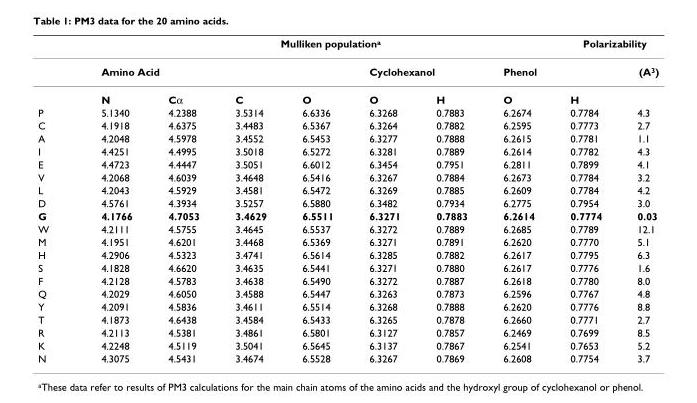table: (37, 36, 658, 363)
table column: (74, 36, 149, 363), (149, 36, 216, 363), (216, 36, 283, 363), (283, 36, 350, 363), (350, 36, 417, 363), (417, 36, 484, 363), (484, 36, 551, 363), (551, 36, 618, 363), (618, 36, 658, 363), (37, 36, 74, 363)
table column header: (37, 36, 658, 105)
table row: (37, 56, 658, 84), (37, 84, 658, 105), (37, 36, 658, 56), (37, 105, 658, 118), (37, 118, 658, 131), (37, 131, 658, 144), (37, 144, 658, 157), (37, 157, 658, 170), (37, 170, 658, 183), (37, 183, 658, 196), (37, 196, 658, 209), (37, 209, 658, 222), (37, 222, 658, 235), (37, 235, 658, 248), (37, 260, 658, 273), (37, 273, 658, 286), (37, 286, 658, 299), (37, 299, 658, 312), (37, 312, 658, 325), (37, 325, 658, 338), (37, 338, 658, 351), (37, 248, 658, 260), (37, 351, 658, 363)
table spanning cell: (74, 36, 551, 56), (74, 56, 350, 84), (350, 56, 484, 84), (484, 56, 618, 84), (551, 36, 658, 56), (618, 56, 658, 105)
